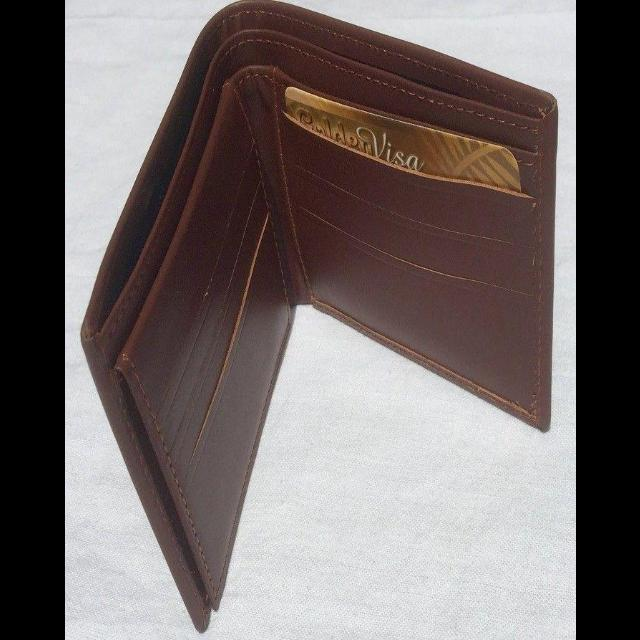wallet: (81, 0, 559, 634)
